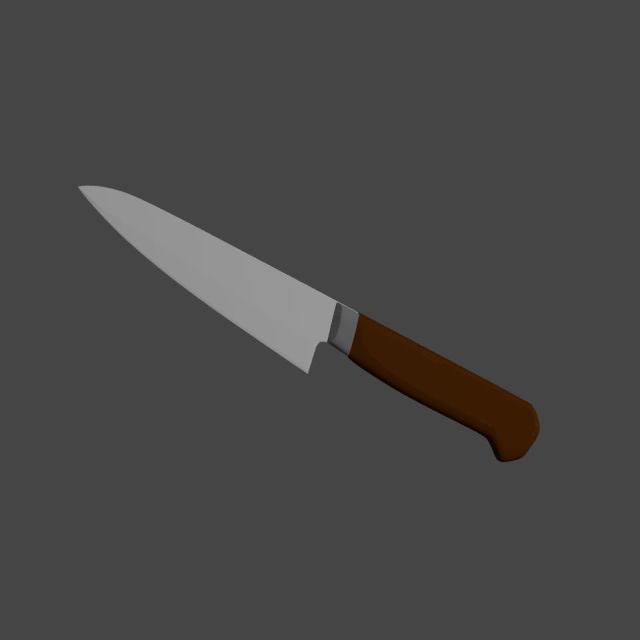knife: (348, 312, 540, 463)
